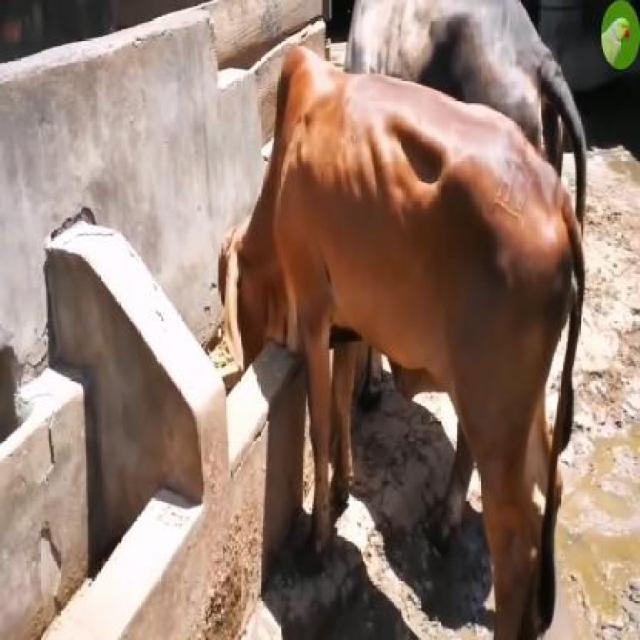Cow: (217, 46, 586, 639)
